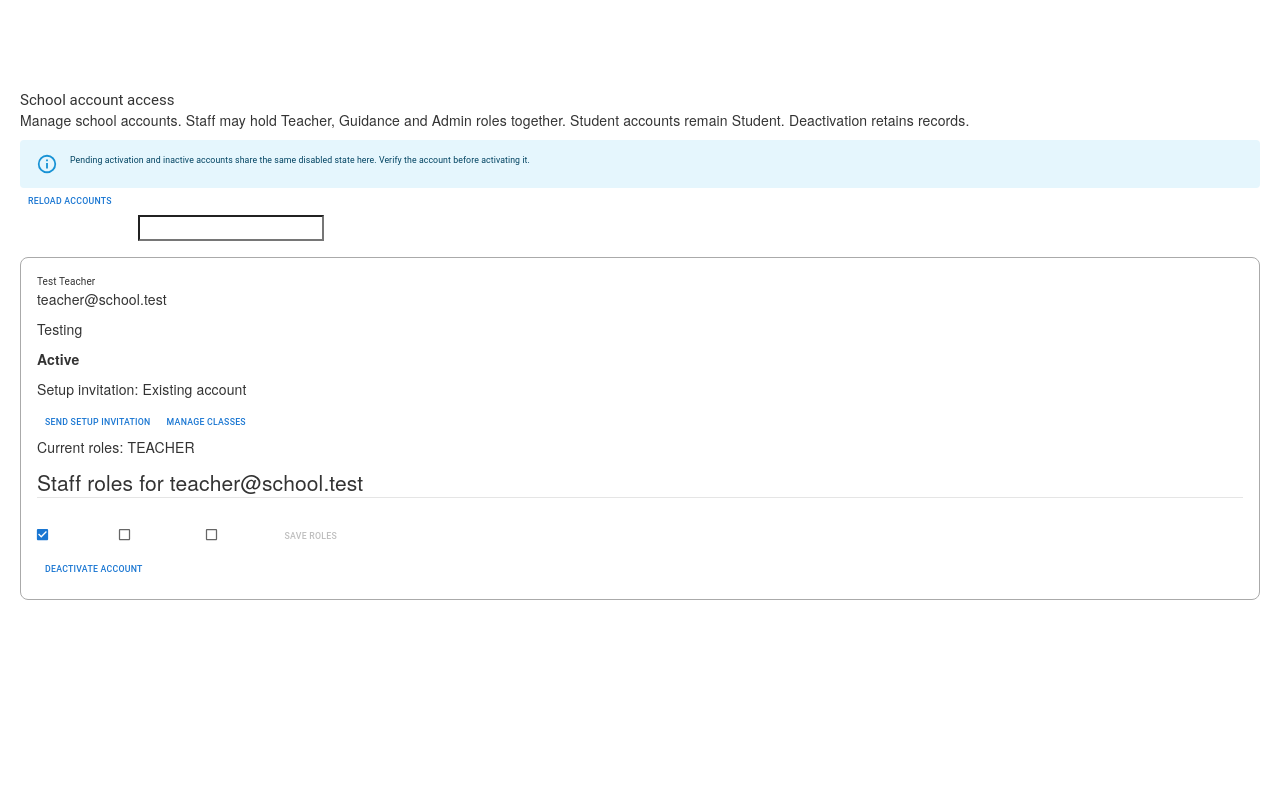
Test case: enabled true accepts 204 and refreshes persisted state
This screenshot has width=1280, height=800.
Click the button "Deactivate account" at point(94, 569), box [37,556,151,583]
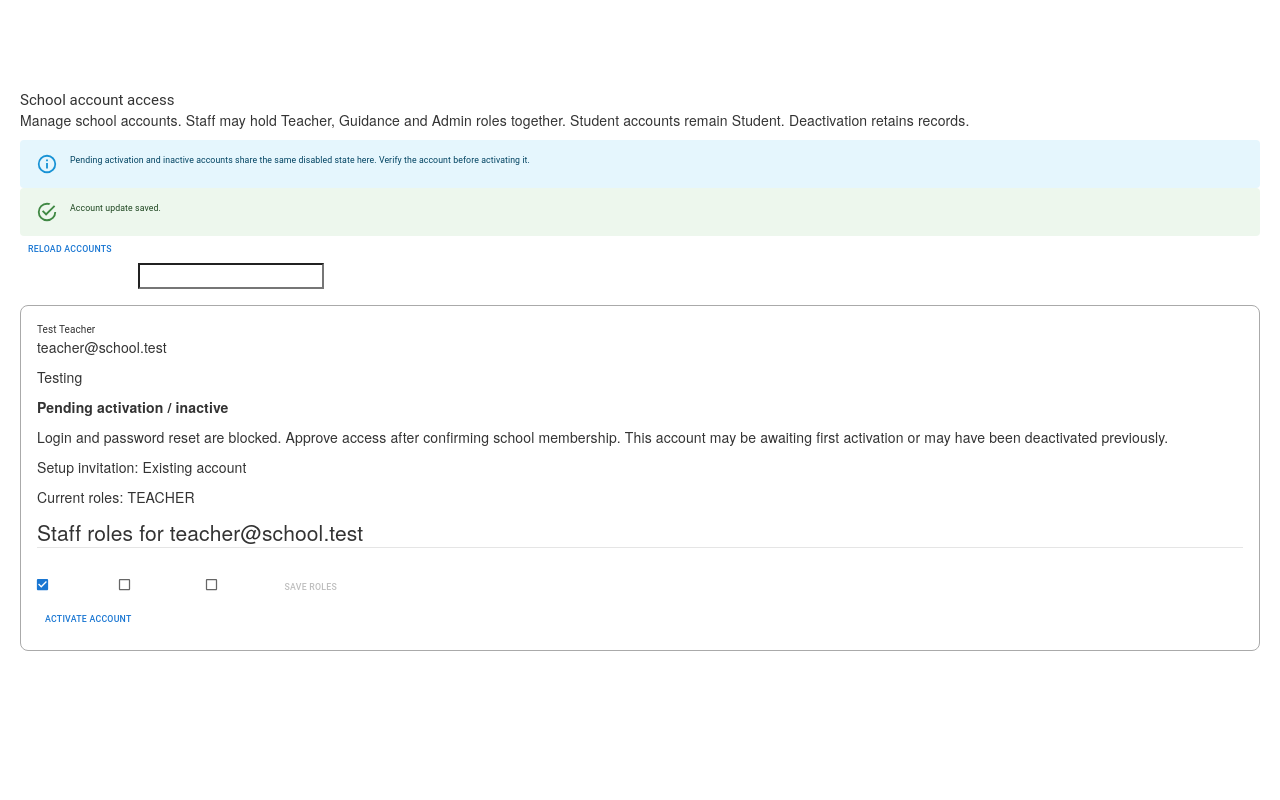
Expected: the text "Account update saved." is shown, [70,203,161,213]
